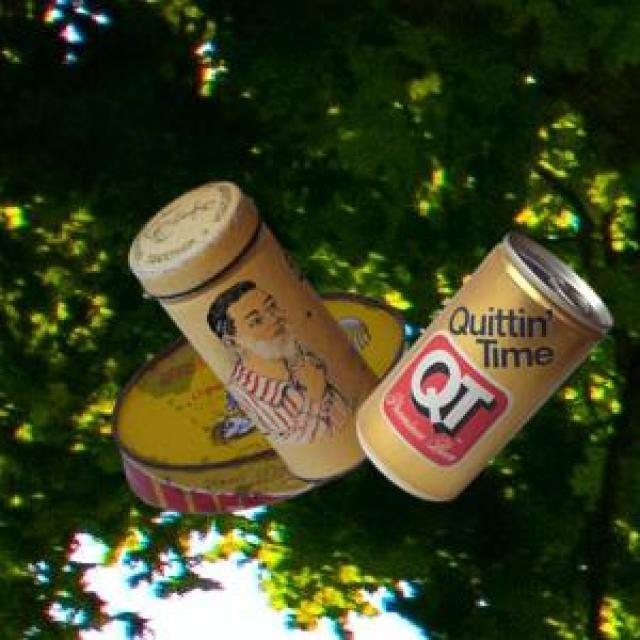Can: (127, 178, 377, 479), (355, 229, 611, 498), (108, 289, 404, 511)
